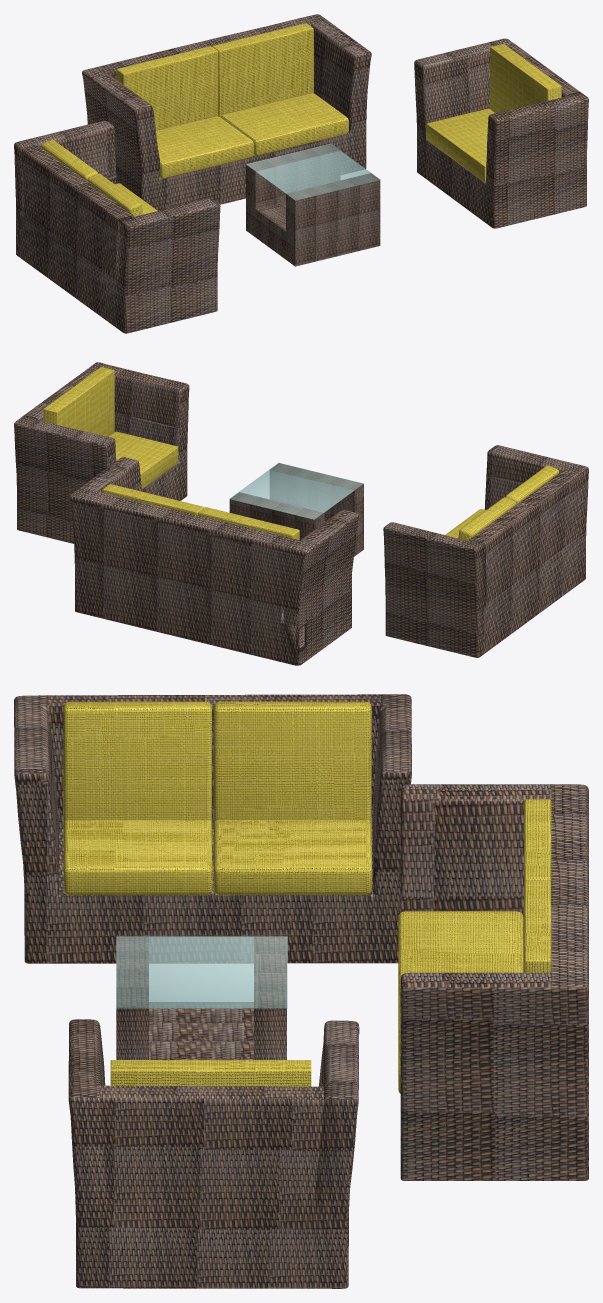
The model's file is outdoorsofa.obj.
3 views of the same model, one above another, from view 1: azimuth 30°, elevation 25°; view 2: azimuth 150°, elevation 25°; view 3: azimuth 270°, elevation 25° (orthographic). The views are drawn at different scales.
Parts seen in each view (by area): view 1: Box006, Box007, Box001, Box008, Box004, Box005, Box003, Box009, Box002, ChamferBox006, ChamferBox005, ChamferBox004 (+1 smaller); view 2: Box001, Box006, Box007, Box008, Box009, ChamferBox006, ChamferBox005, Box005, Box004, ChamferBox003, ChamferBox004; view 3: Box001, Box007, Box006, ChamferBox003, ChamferBox004, Box008, Box009, ChamferBox001, ChamferBox002, Box002, ChamferBox006, Box004 (+1 smaller).
Part boxes in pixels (<box>): Box006: <box>14,120,220,333</box>; Box007: <box>414,38,588,228</box>; Box001: <box>82,14,371,210</box>; Box008: <box>246,144,380,266</box>; Box004: <box>212,23,313,117</box>; Box005: <box>116,46,218,131</box>; Box003: <box>221,93,348,155</box>; Box009: <box>246,143,380,200</box>; Box002: <box>156,116,254,178</box>; ChamferBox006: <box>490,43,561,112</box>; ChamferBox005: <box>426,108,494,182</box>; ChamferBox004: <box>87,173,143,216</box>; Box001: <box>69,457,358,665</box>; Box006: <box>383,445,588,657</box>; Box007: <box>14,362,189,543</box>; Box008: <box>229,463,363,556</box>; Box009: <box>230,463,363,519</box>; ChamferBox006: <box>43,367,114,436</box>; ChamferBox005: <box>109,431,178,488</box>; Box005: <box>198,507,299,539</box>; Box004: <box>102,484,204,515</box>; ChamferBox003: <box>458,497,515,540</box>; ChamferBox004: <box>505,465,559,504</box>; Box001: <box>400,784,588,1180</box>; Box007: <box>68,1019,359,1288</box>; Box006: <box>14,694,411,963</box>; ChamferBox003: <box>213,701,371,821</box>; ChamferBox004: <box>63,701,211,822</box>; Box008: <box>116,936,286,1059</box>; Box009: <box>116,936,287,1008</box>; ChamferBox001: <box>213,820,371,895</box>; ChamferBox002: <box>63,820,212,895</box>; Box002: <box>398,911,523,995</box>; ChamferBox006: <box>110,1060,311,1086</box>; Box004: <box>524,880,551,972</box>.
Bounding box in the file's own units: 153 × 36.43 × 91.67.
3 materials, 3 textured.
